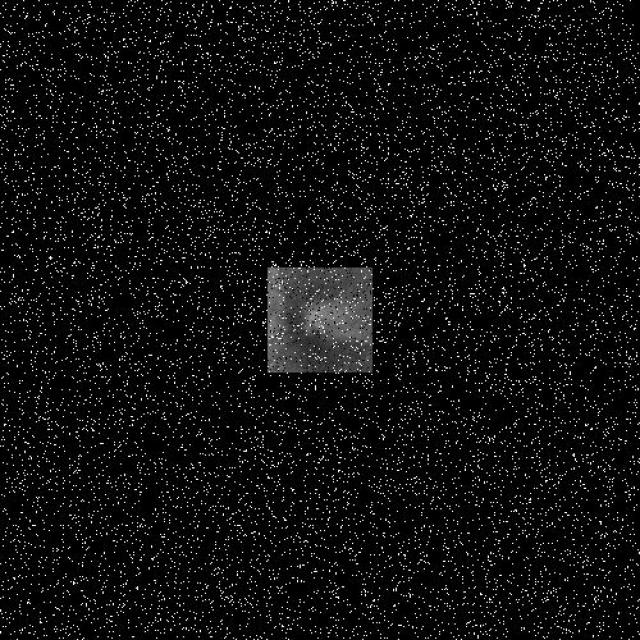crater: (268, 361, 282, 372), (364, 280, 371, 288), (310, 319, 316, 326)
